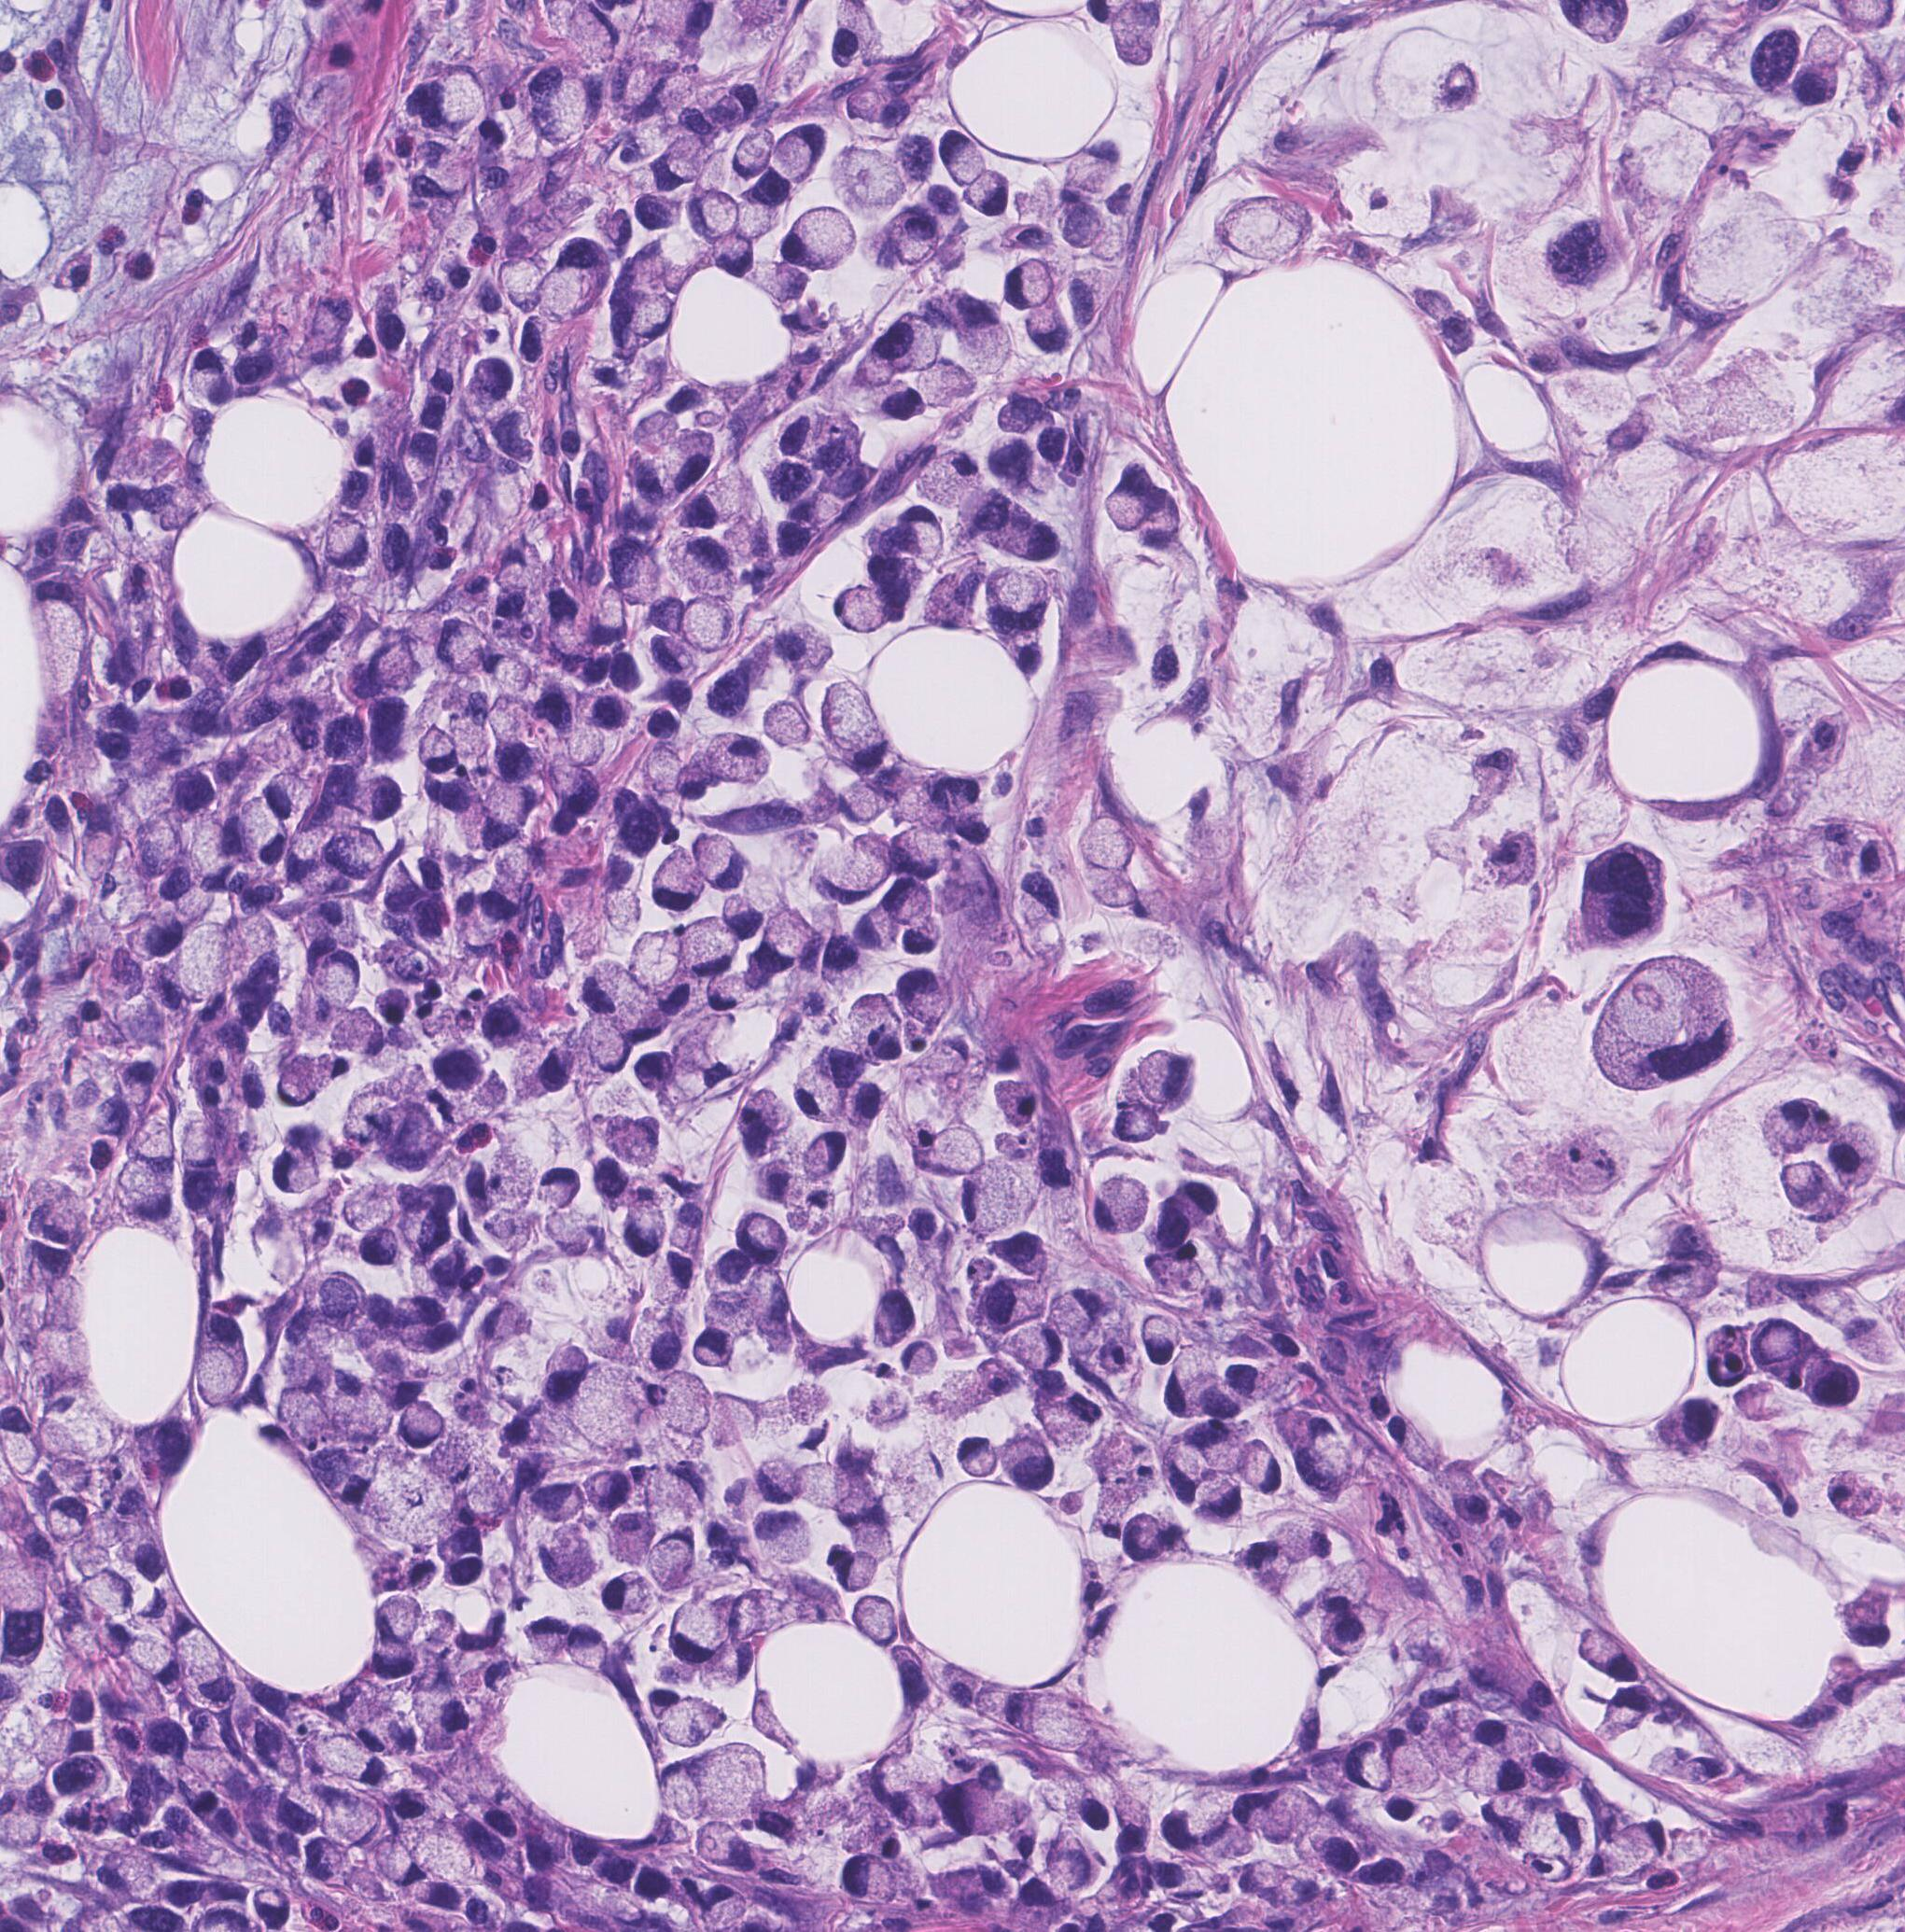ring_cell_cancer: (1601, 954, 1734, 1083), (576, 1365, 665, 1454), (1591, 839, 1664, 945), (24, 577, 89, 697), (1225, 183, 1312, 267), (820, 687, 900, 774), (222, 914, 284, 1011), (959, 1160, 1038, 1236), (42, 1391, 119, 1470), (550, 234, 614, 323), (935, 296, 1017, 366), (815, 832, 890, 907), (668, 528, 745, 602), (174, 1630, 241, 1714), (855, 354, 928, 429), (1656, 1210, 1715, 1301), (19, 1179, 98, 1247), (912, 445, 991, 511), (783, 206, 857, 274), (326, 1372, 393, 1447), (194, 1311, 244, 1409), (382, 1102, 448, 1175), (1760, 1092, 1835, 1156), (607, 534, 670, 610), (642, 935, 698, 1020), (1408, 1704, 1472, 1775), (1601, 1815, 1675, 1878), (1554, 214, 1617, 286), (304, 1740, 394, 1789), (1778, 1158, 1840, 1228), (426, 66, 487, 138), (832, 148, 904, 209), (239, 1704, 297, 1779), (884, 206, 949, 272), (1657, 1395, 1724, 1459), (117, 563, 174, 636), (1062, 199, 1127, 263), (115, 1158, 180, 1222), (1753, 1315, 1816, 1381), (276, 1383, 335, 1452), (1530, 1798, 1582, 1876), (700, 731, 773, 786), (1136, 1048, 1198, 1112), (677, 915, 743, 976), (1300, 1817, 1361, 1883), (94, 1843, 164, 1901), (743, 1273, 797, 1346), (888, 500, 951, 563), (539, 1524, 602, 1587), (846, 997, 907, 1062), (534, 73, 593, 139), (778, 617, 837, 684), (614, 788, 668, 860), (426, 314, 473, 396), (891, 823, 954, 884), (344, 1086, 401, 1153), (670, 1597, 727, 1663), (738, 1083, 794, 1151), (1806, 1346, 1861, 1414), (693, 1819, 761, 1874), (194, 818, 246, 889), (766, 908, 825, 971), (309, 1268, 366, 1332), (1092, 1173, 1148, 1240), (1162, 1428, 1209, 1507), (914, 181, 973, 242), (720, 518, 782, 577), (1832, 1121, 1882, 1193), (616, 61, 673, 124), (239, 799, 295, 863), (1036, 1393, 1101, 1449), (75, 807, 122, 882), (895, 774, 956, 832), (998, 516, 1069, 565), (485, 589, 550, 643), (717, 645, 769, 711), (1048, 1290, 1115, 1343), (914, 1126, 987, 1173), (886, 310, 937, 378), (1469, 1751, 1537, 1801), (841, 1855, 900, 1913), (654, 1759, 712, 1819), (939, 1787, 1008, 1836), (895, 971, 959, 1024), (1008, 1320, 1073, 1372), (497, 249, 548, 316), (794, 1067, 851, 1125), (1082, 814, 1141, 870), (523, 1041, 583, 1097), (1003, 1437, 1059, 1496), (827, 10, 881, 71), (982, 443, 1043, 497), (485, 992, 539, 1053), (1474, 1712, 1544, 1759), (94, 441, 169, 485), (419, 150, 483, 201), (771, 124, 829, 180), (687, 485, 764, 527), (366, 636, 424, 692), (680, 595, 738, 650), (372, 1834, 427, 1892), (323, 513, 377, 572), (691, 833, 750, 888), (874, 1751, 933, 1805), (1108, 460, 1155, 528), (136, 1105, 183, 1173), (665, 432, 717, 493), (954, 490, 1015, 542), (689, 181, 738, 246), (977, 1278, 1041, 1327), (638, 1313, 687, 1378), (276, 1777, 324, 1841), (326, 828, 393, 875), (1708, 1320, 1751, 1391), (736, 1210, 792, 1266), (1385, 1418, 1441, 1473), (832, 579, 890, 633), (399, 1395, 454, 1452), (1492, 833, 1546, 891), (328, 1789, 382, 1847), (159, 870, 218, 922), (431, 619, 492, 670), (647, 139, 710, 188), (656, 853, 705, 915), (487, 854, 536, 917), (134, 818, 183, 881), (1162, 1351, 1209, 1416), (998, 385, 1054, 439), (923, 577, 977, 633), (701, 1632, 755, 1688), (277, 1051, 335, 1104), (19, 1235, 77, 1287), (1268, 1784, 1321, 1841), (1015, 867, 1061, 933), (977, 1686, 1036, 1737), (326, 713, 375, 774), (555, 753, 604, 814), (541, 1339, 590, 1400), (134, 1109, 181, 1172), (52, 1756, 115, 1803), (916, 363, 980, 408), (583, 1017, 637, 1071), (607, 1109, 661, 1163), (544, 1207, 598, 1261), (61, 525, 119, 575), (879, 872, 937, 922), (375, 1590, 426, 1648), (176, 690, 236, 739), (581, 350, 647, 394), (469, 356, 516, 417), (1226, 1360, 1287, 1407), (340, 1187, 401, 1235), (443, 776, 485, 844), (768, 452, 820, 506), (106, 1055, 160, 1107), (1048, 1838, 1101, 1892), (1793, 56, 1844, 112), (530, 677, 579, 734), (581, 956, 630, 1013), (754, 1512, 815, 1557), (647, 631, 700, 684), (618, 990, 670, 1043), (270, 1146, 323, 1198), (663, 1463, 715, 1515), (1343, 1738, 1396, 1791), (1022, 307, 1076, 357), (412, 722, 462, 776), (1008, 256, 1057, 312), (583, 685, 638, 734), (651, 1252, 700, 1308), (993, 1231, 1050, 1278), (138, 485, 202, 527), (154, 772, 218, 814), (942, 124, 987, 183), (516, 314, 562, 373), (1308, 1409, 1354, 1468), (1071, 139, 1123, 190), (871, 1294, 921, 1346), (584, 1466, 637, 1517), (1064, 274, 1113, 328), (586, 593, 635, 647), (316, 954, 365, 1008), (848, 1599, 902, 1648), (869, 537, 916, 593), (262, 772, 317, 820), (309, 895, 366, 940), (406, 422, 447, 486), (630, 289, 673, 349), (134, 915, 185, 966), (605, 1573, 656, 1623), (1601, 1684, 1652, 1735), (569, 10, 621, 59), (736, 192, 789, 241), (1191, 1421, 1244, 1470), (185, 347, 232, 401), (485, 647, 539, 694), (215, 745, 269, 792), (843, 778, 888, 833), (290, 825, 330, 888), (1141, 492, 1185, 549), (87, 732, 145, 776), (937, 1876, 1008, 1911), (1113, 1791, 1150, 1859), (776, 403, 818, 462), (342, 1013, 391, 1064), (131, 1636, 181, 1684), (565, 1622, 616, 1670), (539, 153, 591, 201), (1589, 1634, 1642, 1681), (757, 258, 811, 303), (1150, 1196, 1193, 1252), (492, 743, 550, 785), (623, 244, 672, 293), (84, 1564, 133, 1613), (300, 324, 351, 371), (754, 1454, 801, 1505), (237, 337, 283, 389), (1324, 1602, 1368, 1656), (373, 293, 412, 354), (487, 785, 543, 827), (722, 891, 769, 940), (38, 1458, 101, 1494), (1242, 1543, 1291, 1590), (1200, 1473, 1246, 1524), (134, 736, 194, 774), (1139, 1311, 1179, 1367), (802, 1130, 850, 1177), (1205, 1810, 1253, 1857), (720, 77, 766, 126), (1115, 16, 1160, 65), (45, 1494, 91, 1543), (522, 1611, 567, 1660), (628, 1198, 666, 1255), (311, 298, 361, 342), (951, 800, 994, 851), (900, 124, 935, 187), (1242, 1440, 1284, 1493), (1120, 1099, 1167, 1144), (249, 1885, 297, 1930), (768, 701, 811, 750), (347, 783, 408, 818), (380, 863, 420, 915), (940, 1660, 980, 1712), (379, 527, 417, 581), (529, 1484, 583, 1522), (659, 1527, 694, 1587), (905, 910, 947, 959), (708, 1250, 750, 1299), (710, 968, 750, 1018), (632, 453, 670, 506), (1437, 61, 1476, 113), (954, 1433, 998, 1479), (1125, 1512, 1169, 1557), (966, 176, 1014, 218), (635, 190, 682, 232), (1179, 1180, 1226, 1222), (700, 1322, 740, 1371), (666, 10, 719, 47), (1003, 221, 1061, 255), (734, 131, 776, 176), (994, 1079, 1040, 1121), (668, 377, 715, 417), (602, 207, 638, 258), (372, 1643, 422, 1679), (506, 537, 539, 593), (717, 235, 761, 277), (98, 875, 141, 917), (1136, 881, 1179, 922), (923, 1039, 970, 1078), (541, 1168, 583, 1210), (680, 96, 720, 139), (841, 1550, 881, 1594), (855, 912, 900, 950), (762, 1160, 799, 1207), (979, 1364, 1021, 1404), (1830, 1470, 1870, 1510), (902, 1336, 940, 1378), (54, 258, 96, 295), (1685, 1758, 1729, 1789), (98, 1622, 134, 1658), (846, 84, 881, 120), (188, 399, 216, 445), (105, 708, 148, 736)
